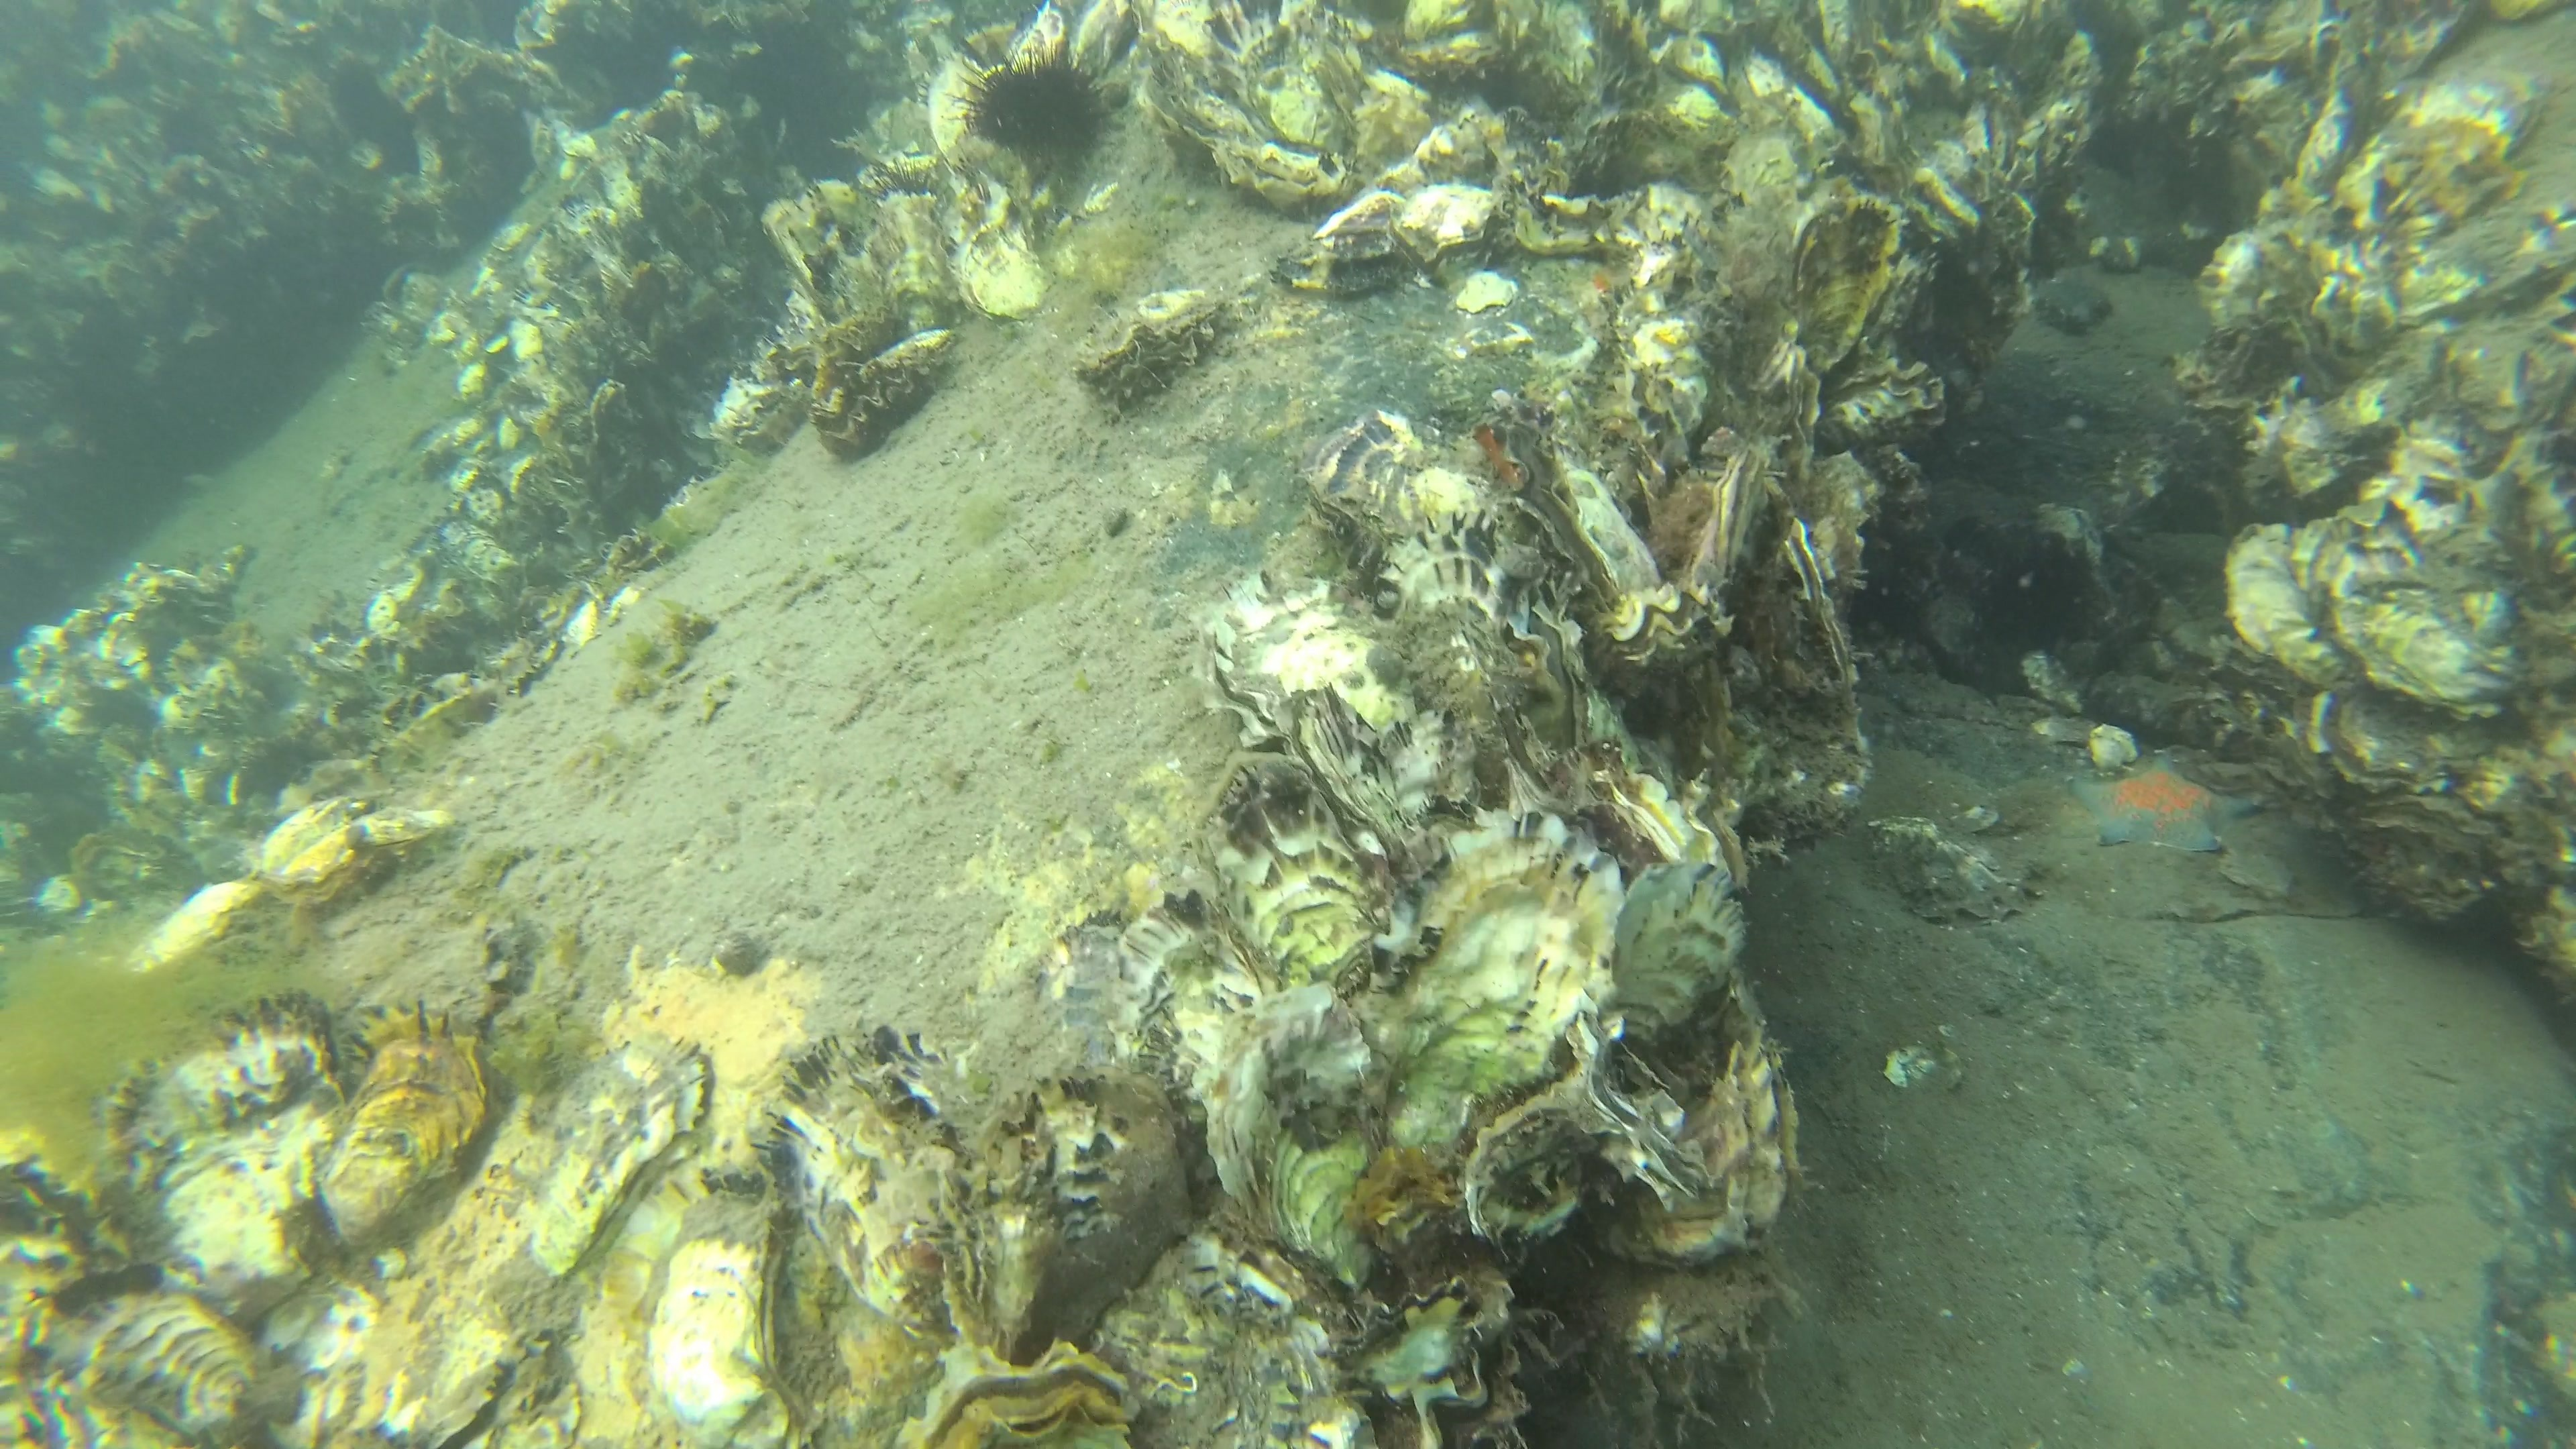echinus: (954, 35, 1120, 177), (867, 152, 952, 205)
starfish: (2059, 743, 2268, 858)
